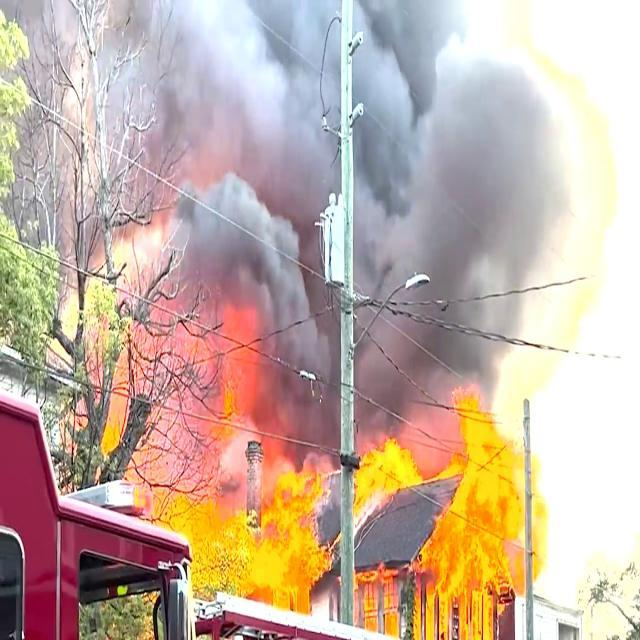Fire: (188, 444, 313, 626), (428, 404, 502, 629), (341, 414, 426, 510)
Smoke: (62, 0, 520, 384)
